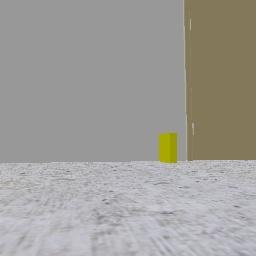galben: (159, 133, 177, 162)
